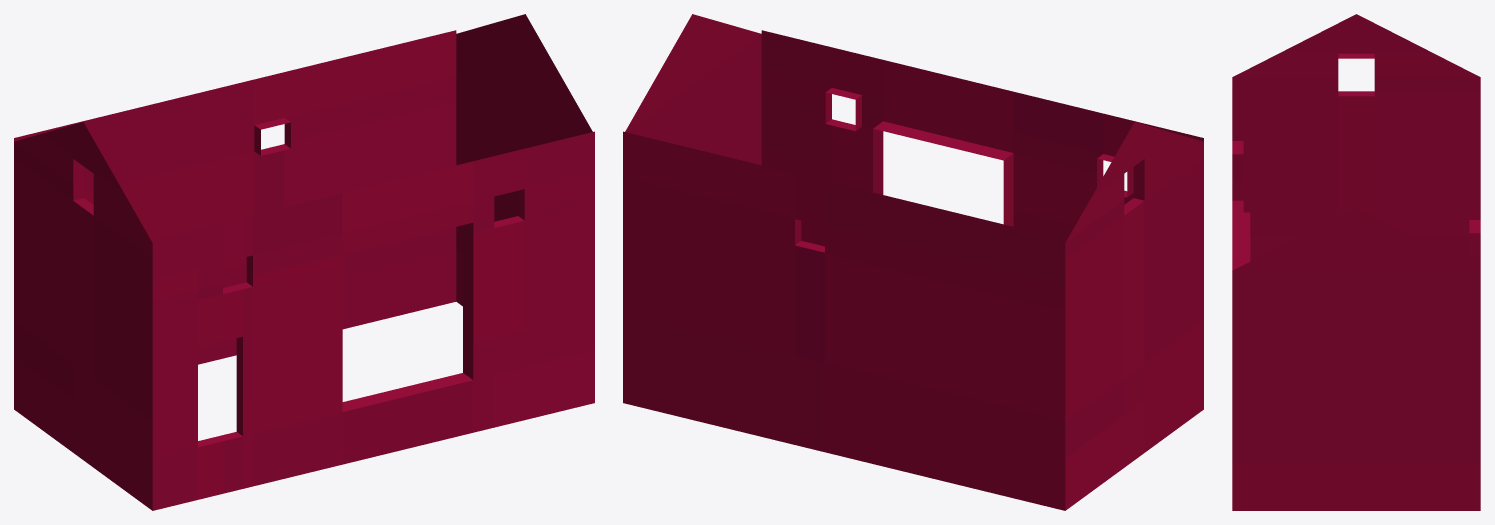
File: SM_Bld_074_Masonry.glb
3 renders of one model, left to right at view 1: azimuth 30°, elevation 25°; view 2: azimuth 150°, elevation 25°; view 3: azimuth 270°, elevation 25°, orthographic. The views are drawn at different scales.
Visible parts, largest first — view 1: SM_Bld_074_Masonry; view 2: SM_Bld_074_Masonry; view 3: SM_Bld_074_Masonry.
Part boxes in pixels (x1=…): SM_Bld_074_Masonry: x1=14, y1=14, x2=594, y2=510; SM_Bld_074_Masonry: x1=623, y1=14, x2=1203, y2=510; SM_Bld_074_Masonry: x1=1232, y1=14, x2=1480, y2=510.
Size of the model in its own units: 8.81 by 6.44 by 4.78.
